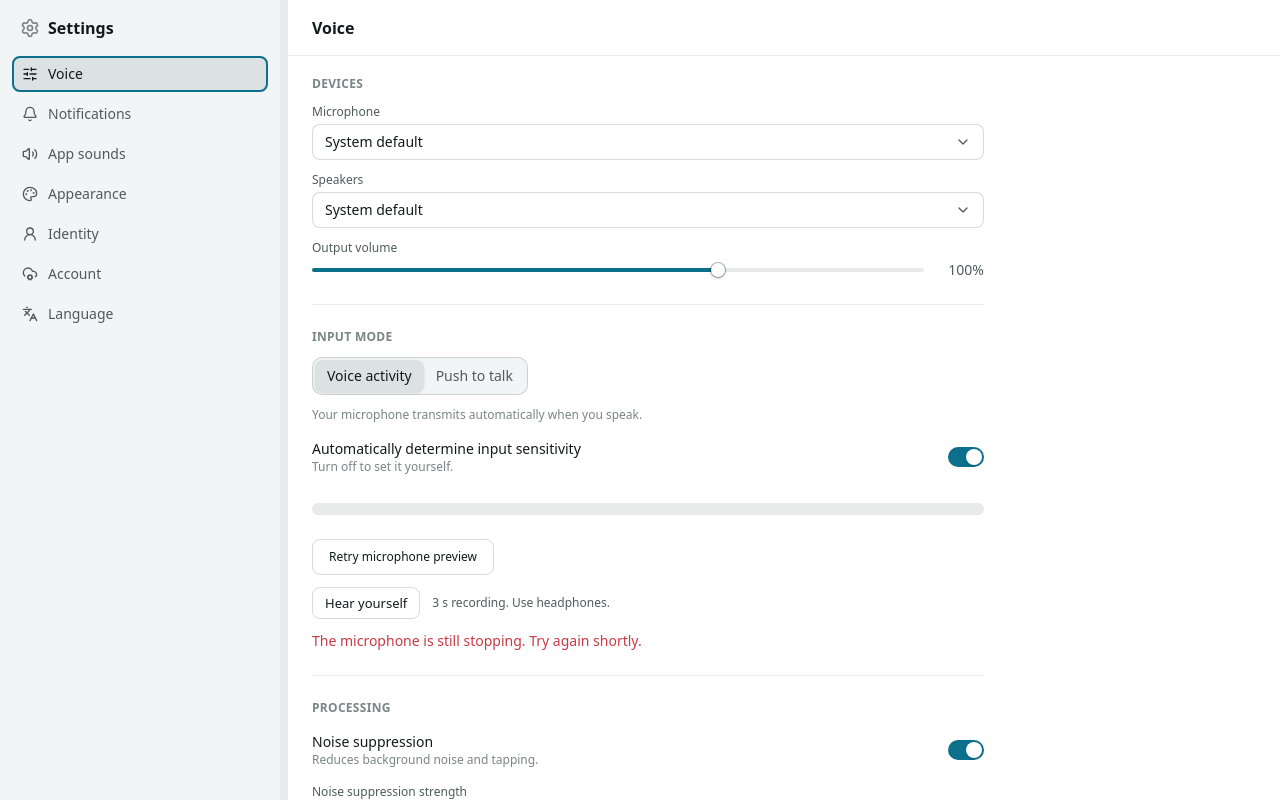
Test: keeps a native shutdown-pending refusal manual and allows silent retry after it clears
Expected: the message "The microphone is still stopping. Try again shortly." is shown, [312, 631, 642, 650]
What coordinates should you click on to do the following:
click the button "Retry microphone preview"
I would click on:
 (403, 557)
Its box is [312, 539, 494, 575].
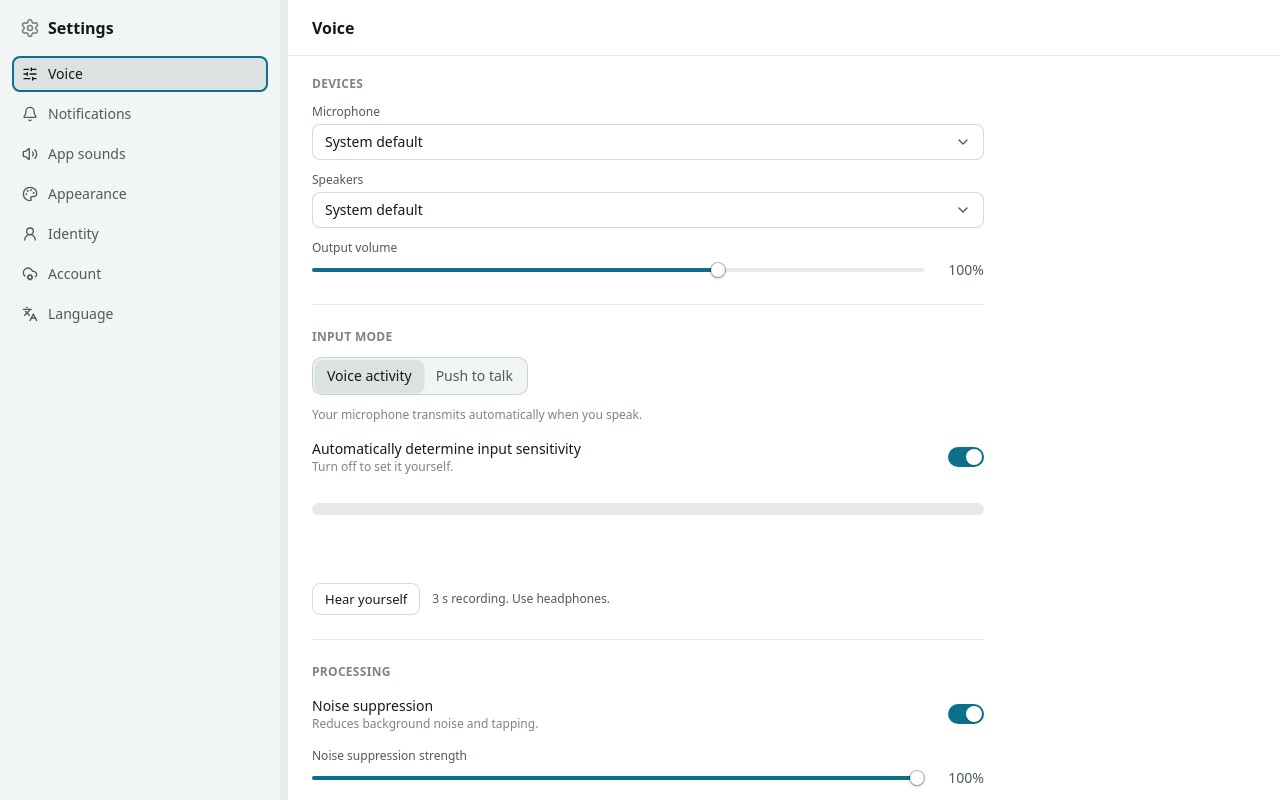
Expected: the message "The microphone is still stopping. Try again shortly." is gone
